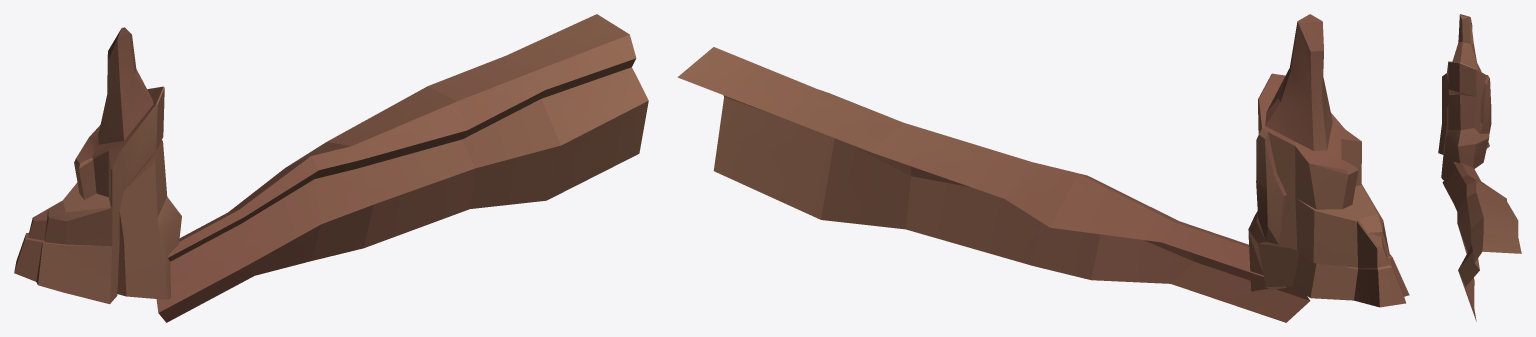
Rendered from bloc_rocheux01.FBX.
3 views of the same model, side by side, from view 1: azimuth 30°, elevation 25°; view 2: azimuth 150°, elevation 25°; view 3: azimuth 270°, elevation 25° (orthographic). The views are drawn at different scales.
Parts seen in each view (by area): view 1: bloc_rocheux01; view 2: bloc_rocheux01; view 3: bloc_rocheux01.
Part boxes in pixels (x1,y1,x2,y2): bloc_rocheux01: (14, 14, 648, 322); bloc_rocheux01: (677, 14, 1409, 322); bloc_rocheux01: (1438, 14, 1521, 321).
Bounding box in the file's own units: 178 × 79.31 × 34.48.
